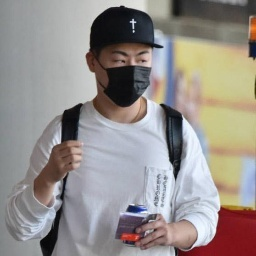correctlyWear: (85, 45, 153, 108)
